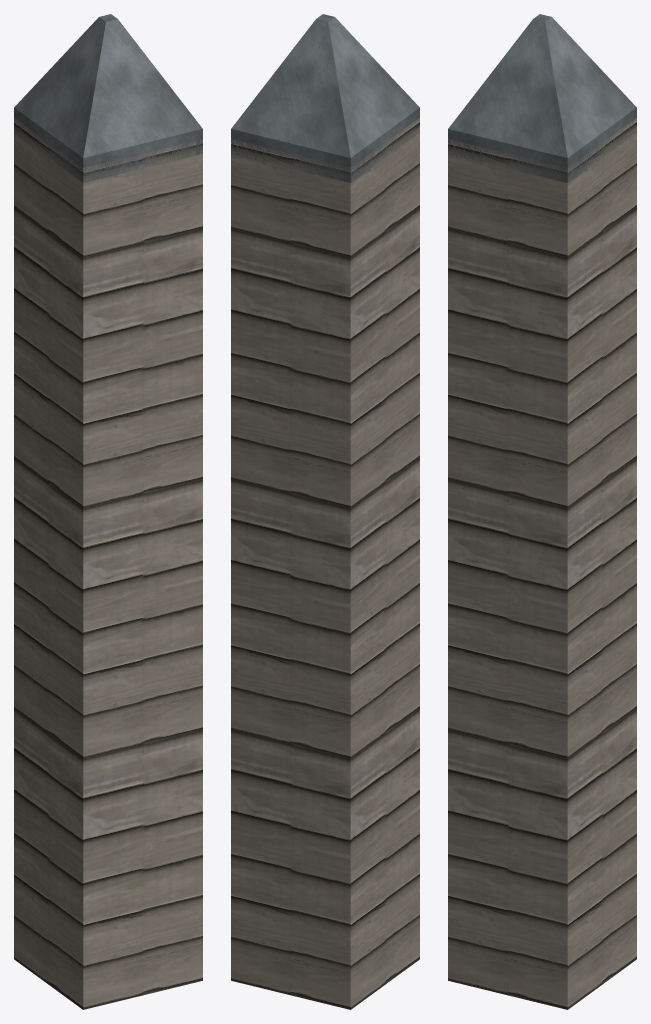
The model's file is spear.fbx.
3 views of the same model, side by side, from view 1: azimuth 30°, elevation 25°; view 2: azimuth 150°, elevation 25°; view 3: azimuth 330°, elevation 25° (orthographic).
Visible parts, largest first — view 1: mergedBlocks; view 2: mergedBlocks; view 3: mergedBlocks.
Boxes of the visible parts, x1,y1,x2,y2 form: mergedBlocks: (14, 14, 202, 1009); mergedBlocks: (231, 14, 419, 1009); mergedBlocks: (448, 14, 636, 1009).
Size of the model in its own units: 5 by 38 by 5.
